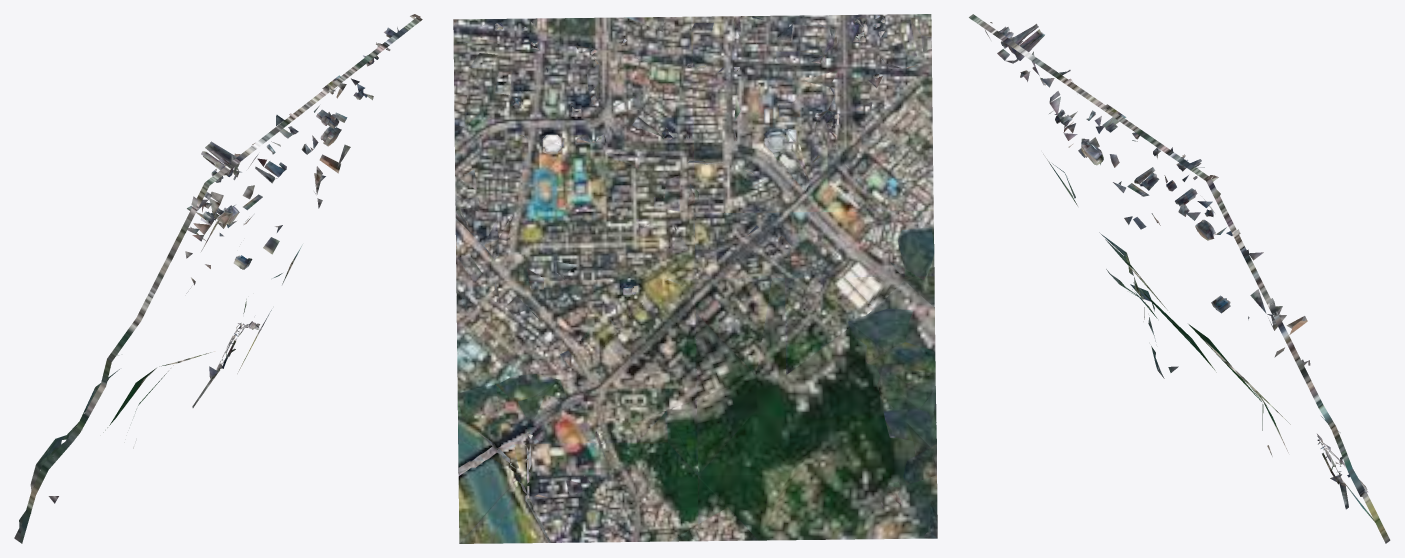
3 renders of one model, left to right at view 1: azimuth 30°, elevation 25°; view 2: azimuth 150°, elevation 25°; view 3: azimuth 270°, elevation 25°, orthographic. The views are drawn at different scales.
Bounding box in the file's own units: 2468 × 2273 × 2062.
1 material, 1 textured.
